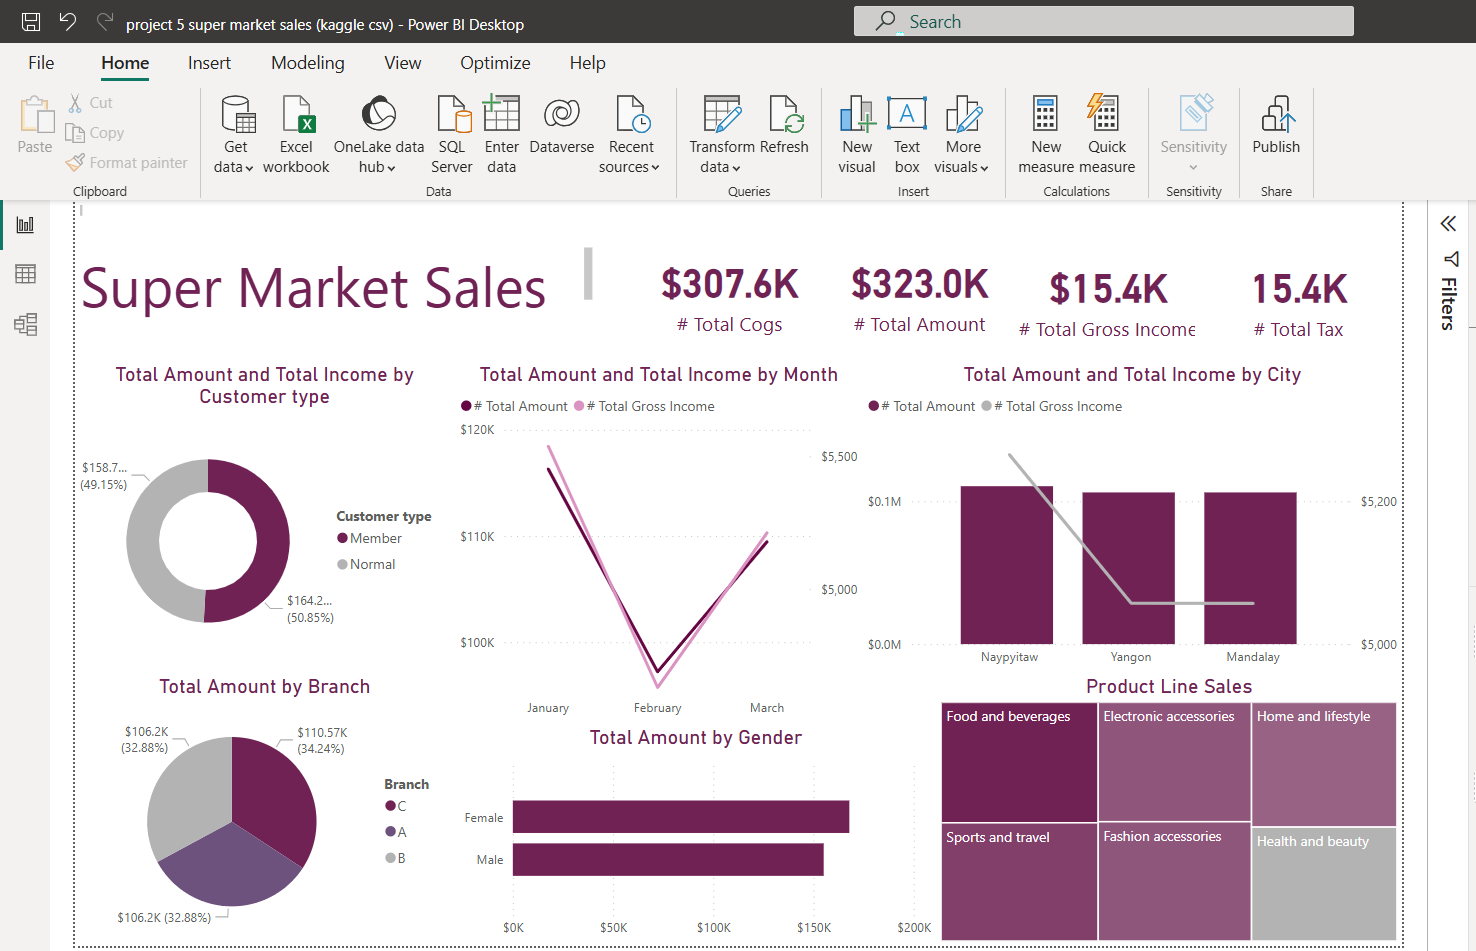

The dashboard page shown, as its layout file describes it:
{"tool":"powerbi","page":{"name":"Page 1","canvas":[1280,720],"ordinal":0},"visuals":[{"type":"card","fields":{"Values":["Dax Measure.# Total Amount"]},"box":[714.8,41.1,200,97.3],"z":0},{"type":"card","fields":{"Values":["Dax Measure.# Total Gross Income"]},"box":[897.6,49.4,200,89.1],"z":1000},{"type":"card","fields":{"Values":["Dax Measure.# Average Gross Margin"]},"box":[1080,49.4,200,89.1],"z":2000},{"type":"card","fields":{"Values":["Dax Measure.# Total Cogs"]},"box":[532,41.1,200,97.3],"z":3000},{"type":"lineStackedColumnComboChart","title":"Total Amount and Total Income by City","fields":{"Category":["supermarket_sales.City"],"Y":["Dax Measure.# Total Amount"],"Y2":["Dax Measure.# Total Gross Income"]},"box":[759.6,156.7,521,301.6],"z":4000},{"type":"pieChart","title":"Total Amount by Branch","fields":{"Category":["supermarket_sales.Branch"],"Y":["Dax Measure.# Total Amount"]},"box":[0,458.3,366.1,261.9],"z":5000},{"type":"lineChart","title":"Total Amount and Total Income by Month","fields":{"Category":["supermarket_sales.Date.Variation.Date Hierarchy.Year","supermarket_sales.Date.Variation.Date Hierarchy.Quarter","supermarket_sales.Date.Variation.Date Hierarchy.Month","supermarket_sales.Date.Variation.Date Hierarchy.Day"],"Y":["Dax Measure.# Total Amount"],"Y2":["Dax Measure.# Total Gross Income"]},"box":[366.1,156.3,393.5,351],"z":6000},{"type":"treemap","title":"Product Line Sales","fields":{"Group":["supermarket_sales.Product line"],"Values":["Dax Measure.# Total Amount"]},"box":[830.9,458.3,449.7,261.9],"z":7000},{"type":"clusteredBarChart","title":"Total Amount by Gender","fields":{"Category":["supermarket_sales.Gender"],"Y":["Dax Measure.# Total Amount"]},"box":[366.1,507.7,464.8,212.5],"z":8000},{"type":"donutChart","title":"Total Amount and Total Income by Customer type","fields":{"Category":["supermarket_sales.Customer type"],"Y":["Dax Measure.# Total Amount"]},"box":[0,156.7,366.1,301.6],"z":9000},{"type":"textbox","box":[0,0,12.3,20.6],"z":11000},{"type":"textbox","box":[0,41.1,504.5,76.8],"z":12000}]}

Visuals, with their boxes on the page's 1280x720 design canvas (x1, y1, x2, y2). These are canvas units, not pixel positions in the 1476x951 screenshot, which may show the page scaled, cropped or inside an application window:
card - Dax Measure.# Total Amount: (715, 41, 915, 138)
card - Dax Measure.# Total Gross Income: (898, 49, 1098, 138)
card - Dax Measure.# Average Gross Margin: (1080, 49, 1280, 138)
card - Dax Measure.# Total Cogs: (532, 41, 732, 138)
"Total Amount and Total Income by City" lineStackedColumnComboChart: (760, 157, 1281, 458)
"Total Amount by Branch" pieChart: (0, 458, 366, 720)
"Total Amount and Total Income by Month" lineChart: (366, 156, 760, 507)
"Product Line Sales" treemap: (831, 458, 1281, 720)
"Total Amount by Gender" clusteredBarChart: (366, 508, 831, 720)
"Total Amount and Total Income by Customer type" donutChart: (0, 157, 366, 458)
textbox: (0, 0, 12, 21)
textbox: (0, 41, 504, 118)
